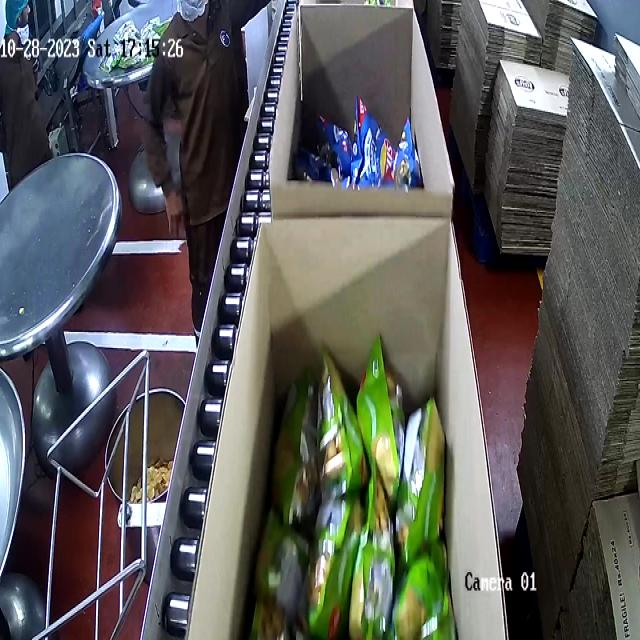PAPRIKA: (294, 97, 428, 189)
